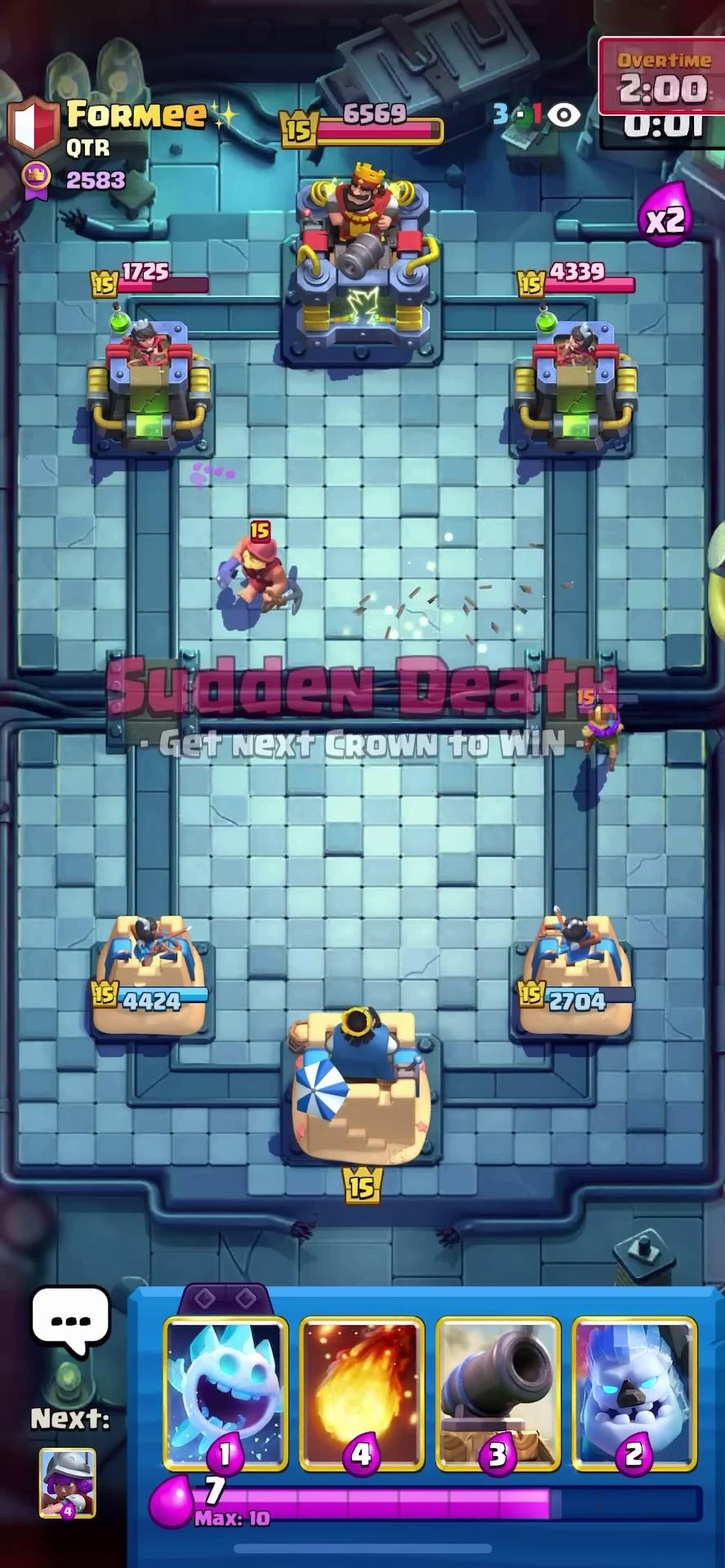musketeer: (557, 688, 645, 772)
